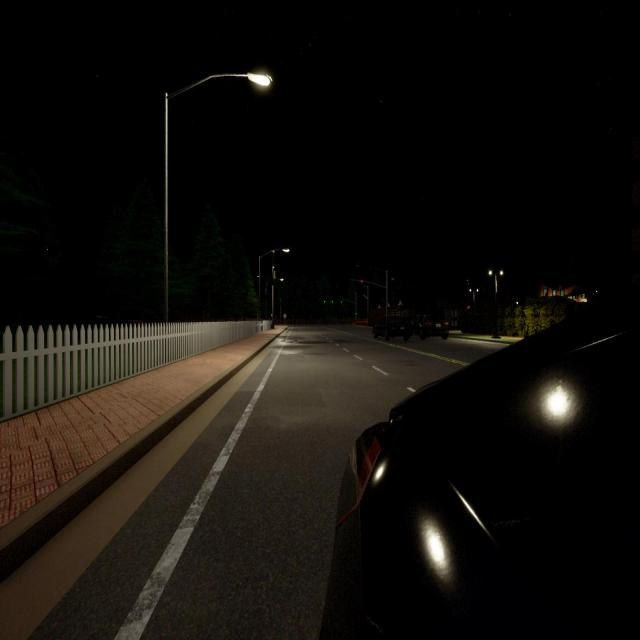Traffic_Signs: (284, 313, 286, 319)
Vehicle: (320, 293, 640, 640), (413, 311, 449, 340), (373, 315, 411, 341)
traffic_light: (331, 298, 333, 304), (340, 298, 342, 304), (361, 280, 363, 284), (355, 311, 357, 315), (324, 298, 325, 303)
